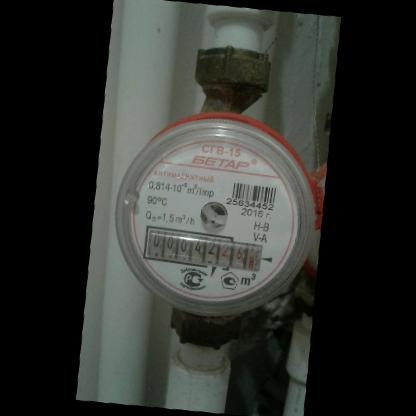digital_screen: (140, 223, 222, 269)
